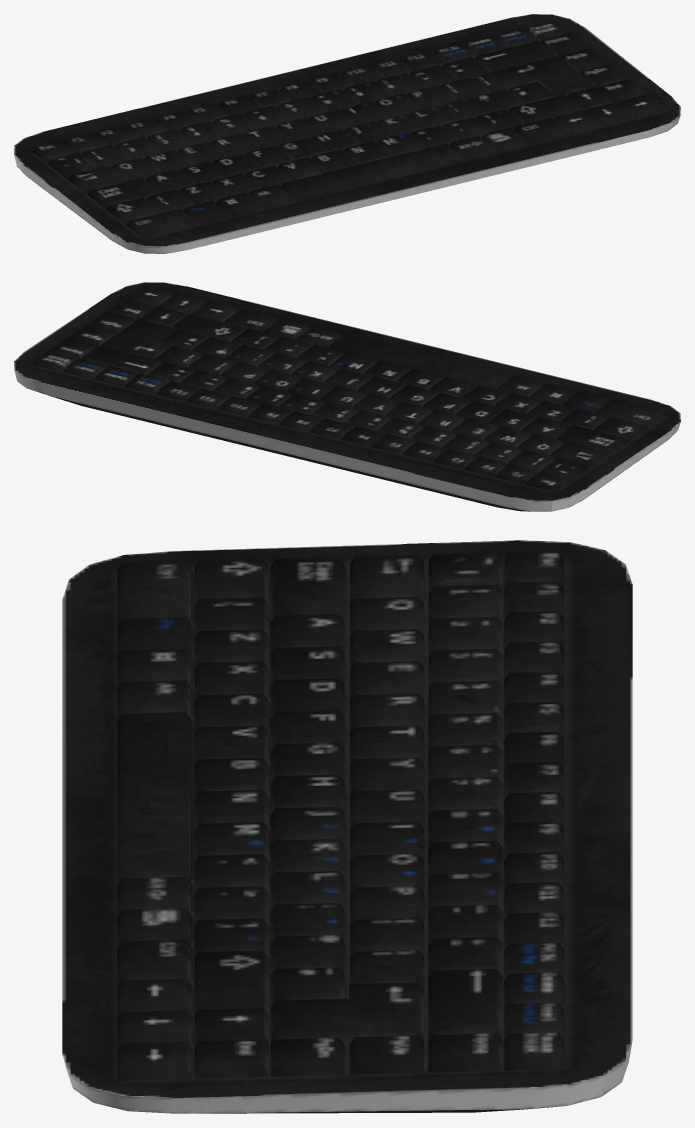
Rendered from Keyboard.FBX.
3 renders of one model, top to bottom at view 1: azimuth 30°, elevation 25°; view 2: azimuth 150°, elevation 25°; view 3: azimuth 270°, elevation 25°, orthographic. The views are drawn at different scales.
Visible parts, largest first — view 1: Keyboard_LOD0; view 2: Keyboard_LOD0; view 3: Keyboard_LOD0.
Part boxes in pixels (left/top/right/bottom): Keyboard_LOD0: left=14, top=14, right=680, bottom=253; Keyboard_LOD0: left=14, top=282, right=680, bottom=511; Keyboard_LOD0: left=62, top=540, right=632, bottom=1113.
Size of what is drawn, in the model's own units: 35.48 by 1.79 by 15.59.
